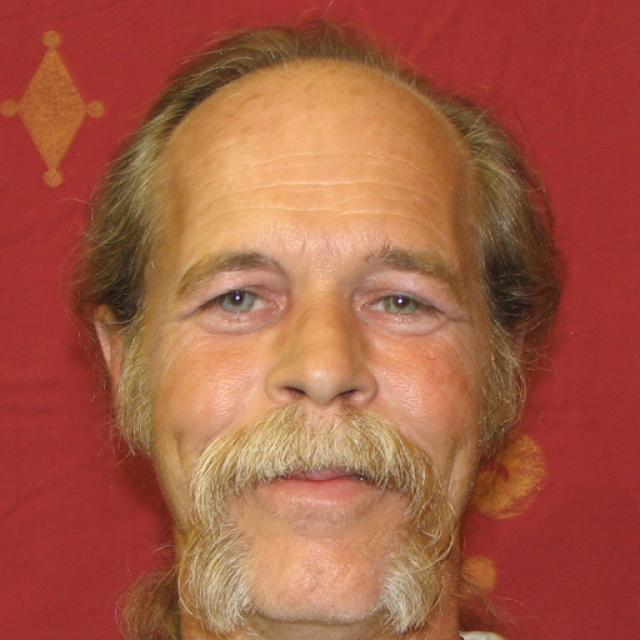Wrinkle: (212, 197, 438, 239), (240, 146, 436, 178), (227, 176, 450, 201)
